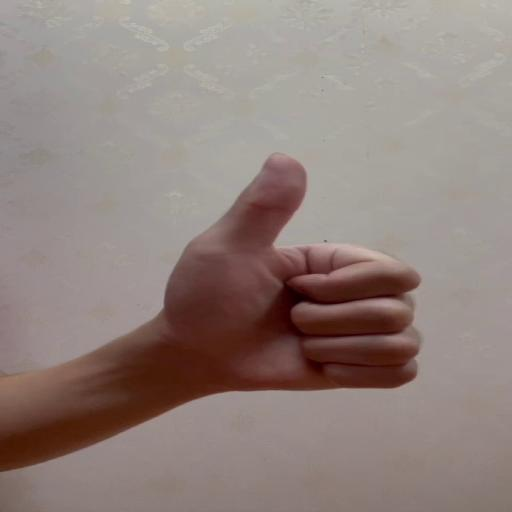thumbs_up: (174, 152, 425, 392)
